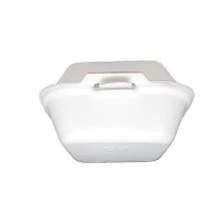foam_box: (33, 54, 200, 172)
